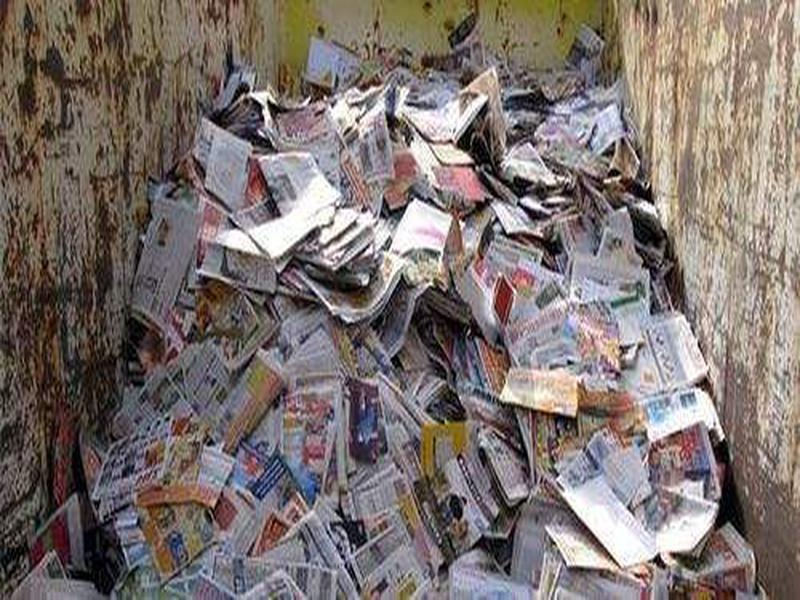paper: (15, 38, 767, 600), (85, 416, 249, 595), (115, 330, 240, 418), (252, 144, 344, 223), (494, 360, 587, 421)
